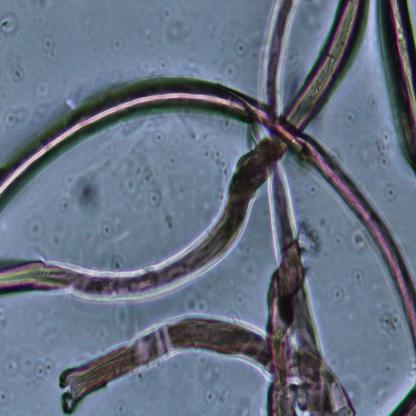Background material: (122, 150, 164, 209), (4, 347, 55, 381), (70, 176, 104, 216), (197, 147, 232, 182), (298, 219, 327, 260), (372, 124, 394, 171), (379, 310, 404, 338), (4, 106, 29, 129), (0, 13, 23, 36), (8, 57, 27, 84)
Microfibre: (0, 77, 416, 349), (0, 1, 370, 298), (257, 1, 334, 413), (59, 312, 354, 415), (376, 0, 416, 165), (387, 382, 416, 415)
